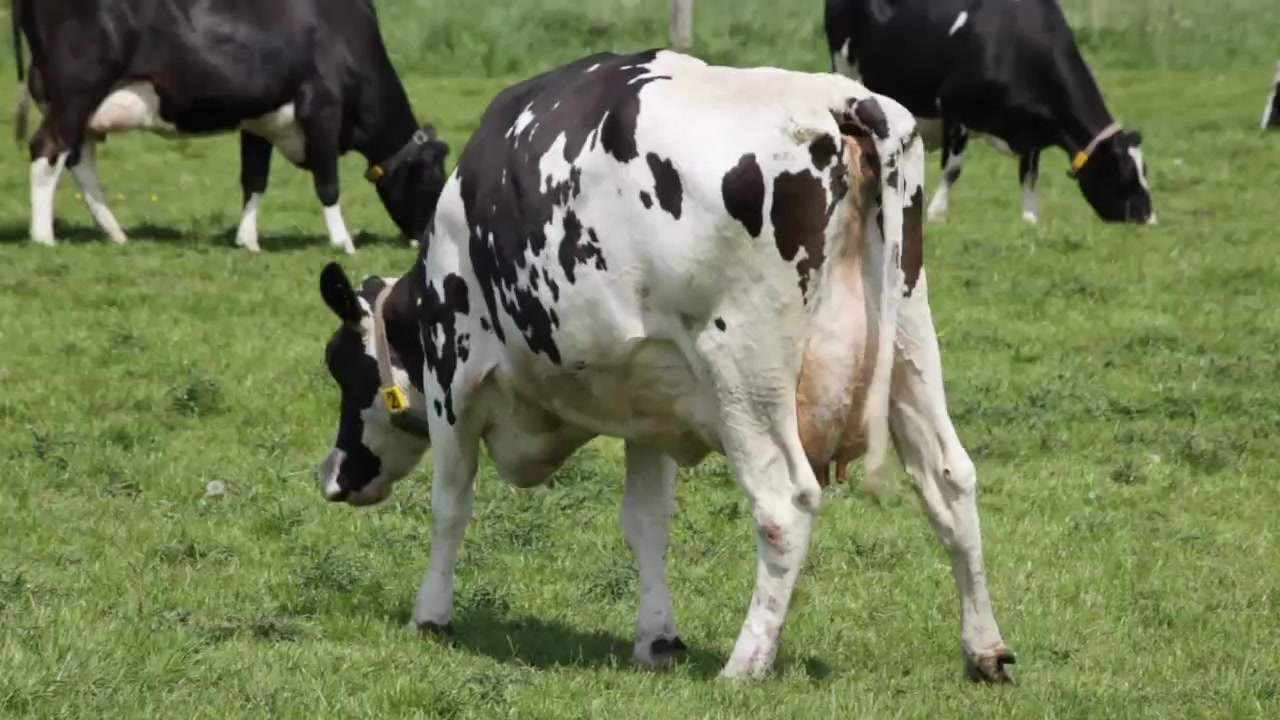cow: (315, 46, 1019, 693)
